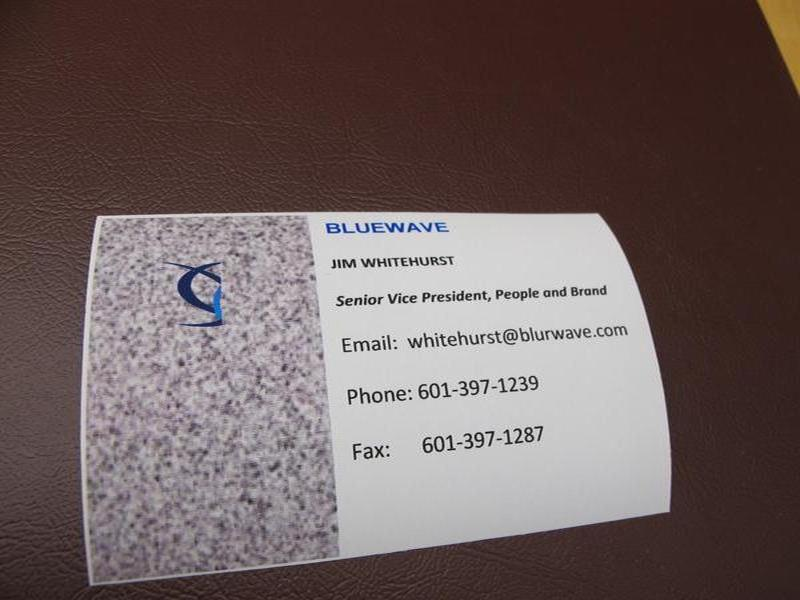card: (80, 208, 688, 582)
